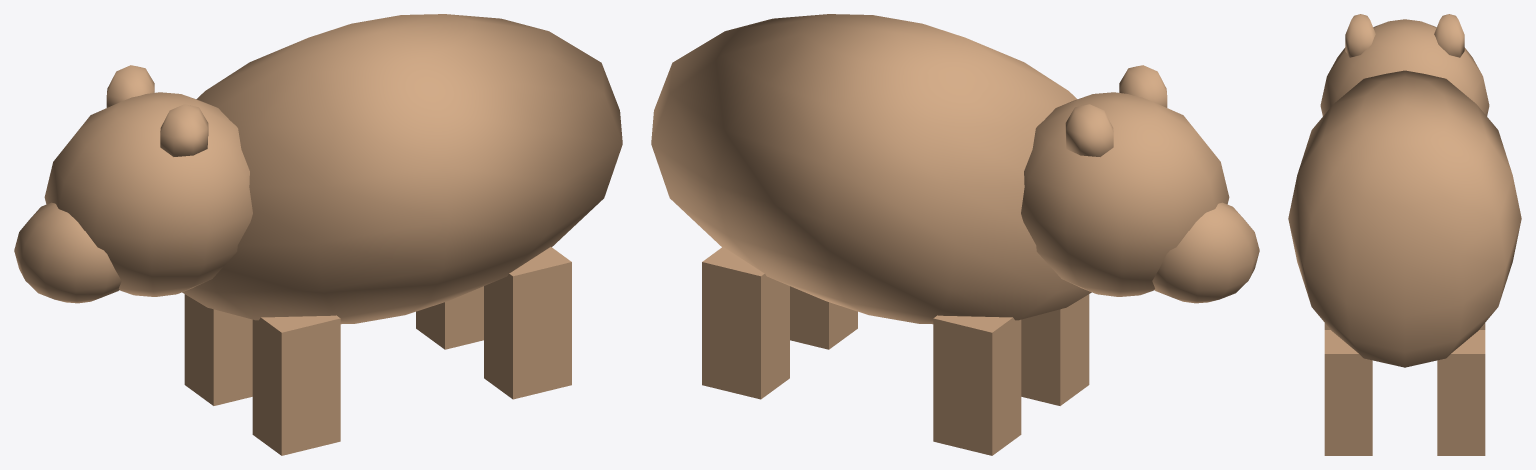
Rendered from capybara.gltf.
3 views of the same model, side by side, from view 1: azimuth 30°, elevation 25°; view 2: azimuth 150°, elevation 25°; view 3: azimuth 270°, elevation 25° (orthographic). The views are drawn at different scales.
Visible parts, largest first — view 1: capybara; view 2: capybara; view 3: capybara.
Boxes of the visible parts, left/top/right/bottom form: capybara: left=14, top=14, right=622, bottom=455; capybara: left=651, top=14, right=1259, bottom=455; capybara: left=1288, top=14, right=1521, bottom=455.
Bounding box in the file's own units: 2.85 × 1.61 × 1.16.
